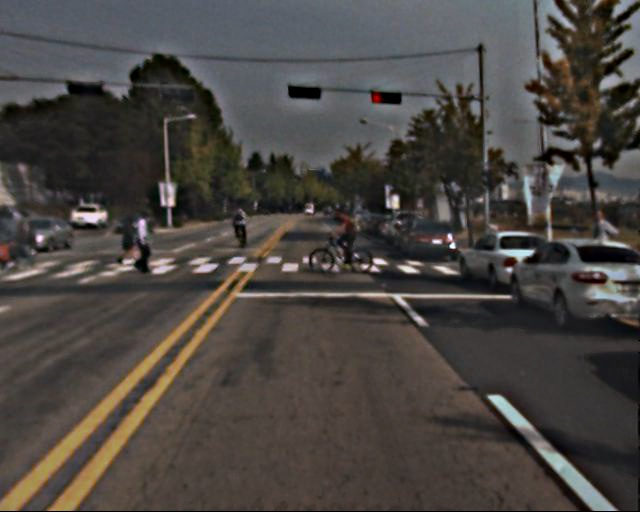person: (130, 209, 157, 275), (332, 206, 359, 272), (16, 212, 36, 266), (119, 221, 138, 268), (231, 204, 250, 250)
